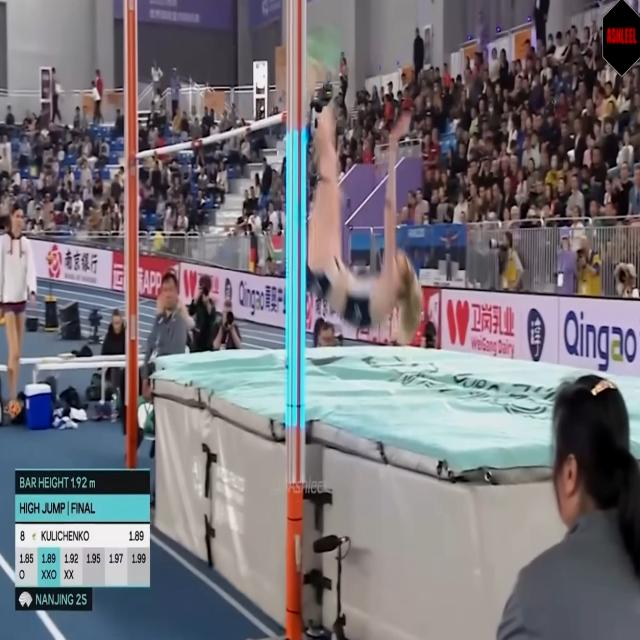land: (308, 34, 415, 320)
